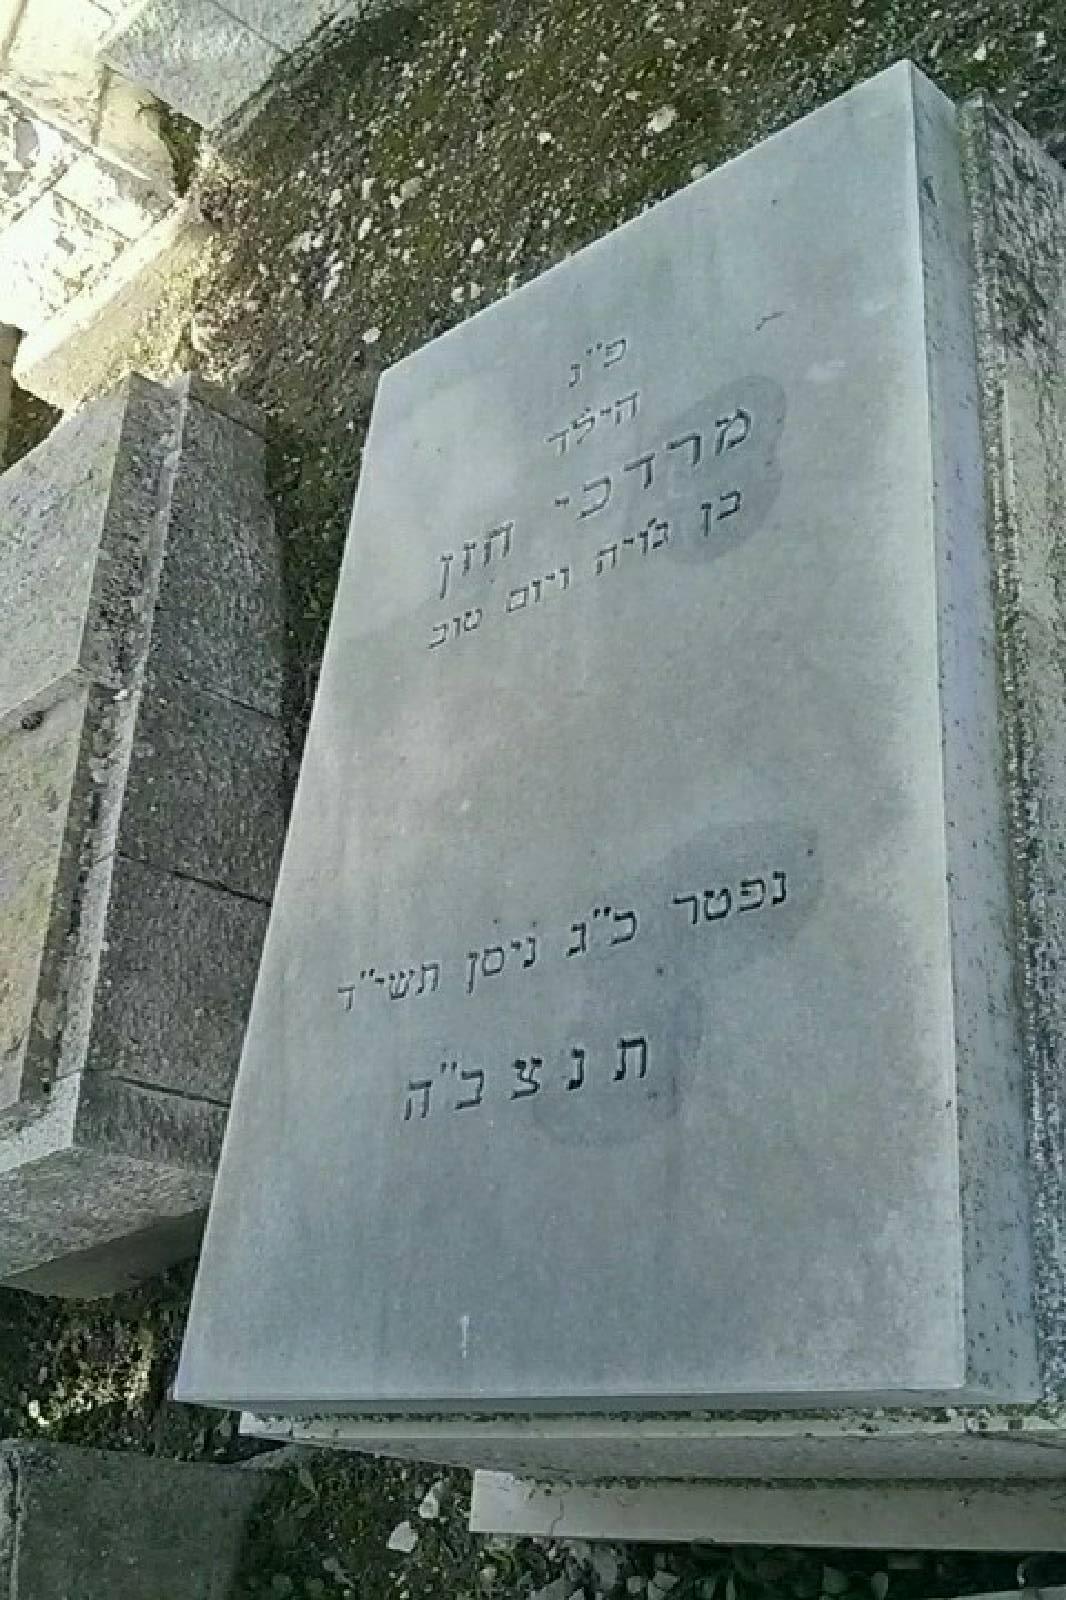vault: (168, 57, 1052, 1577)
